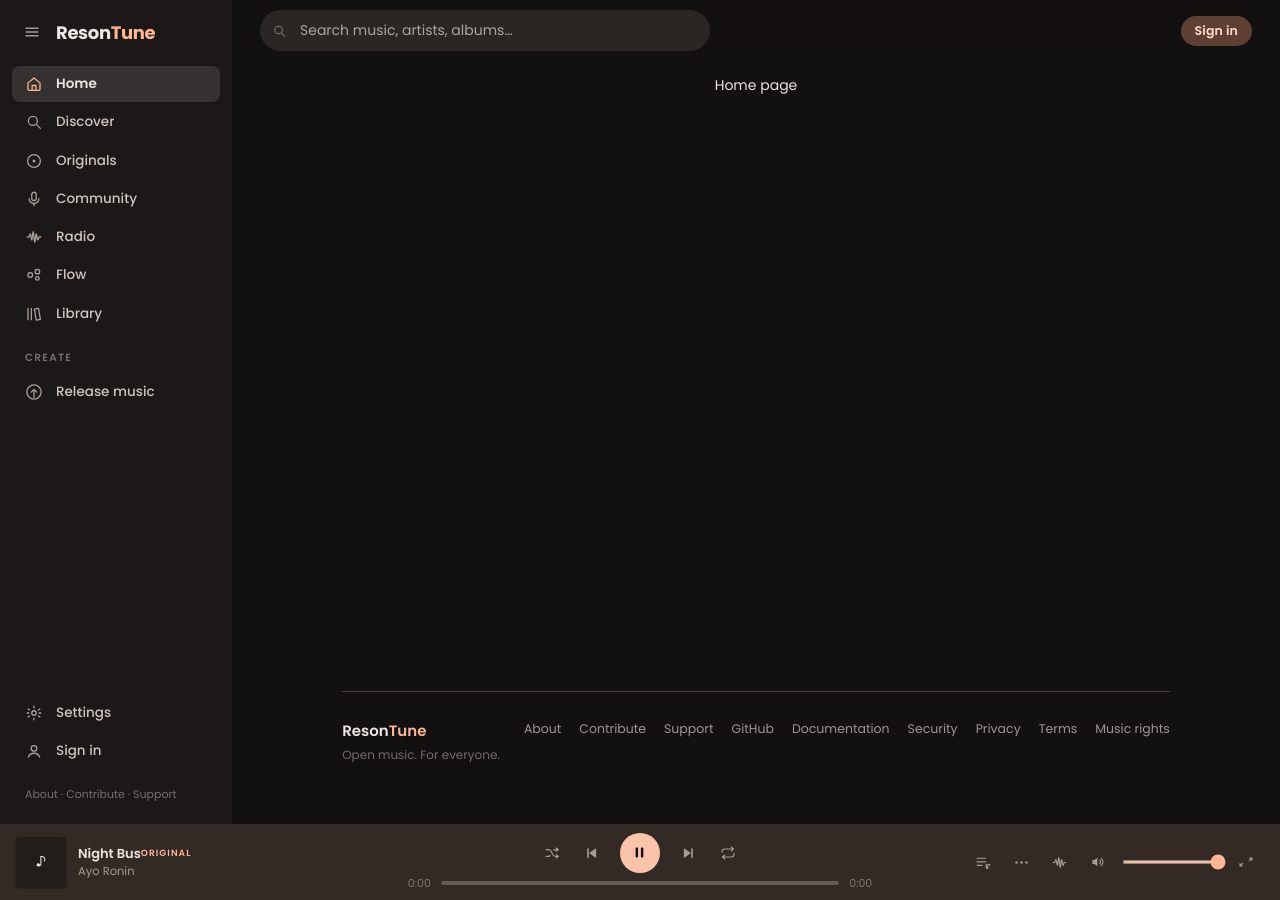
the mobile shell › expands the player without pausing playback
Step 1. Click the button named "Expand player" → click(1246, 862), box [1228,844,1264,880]
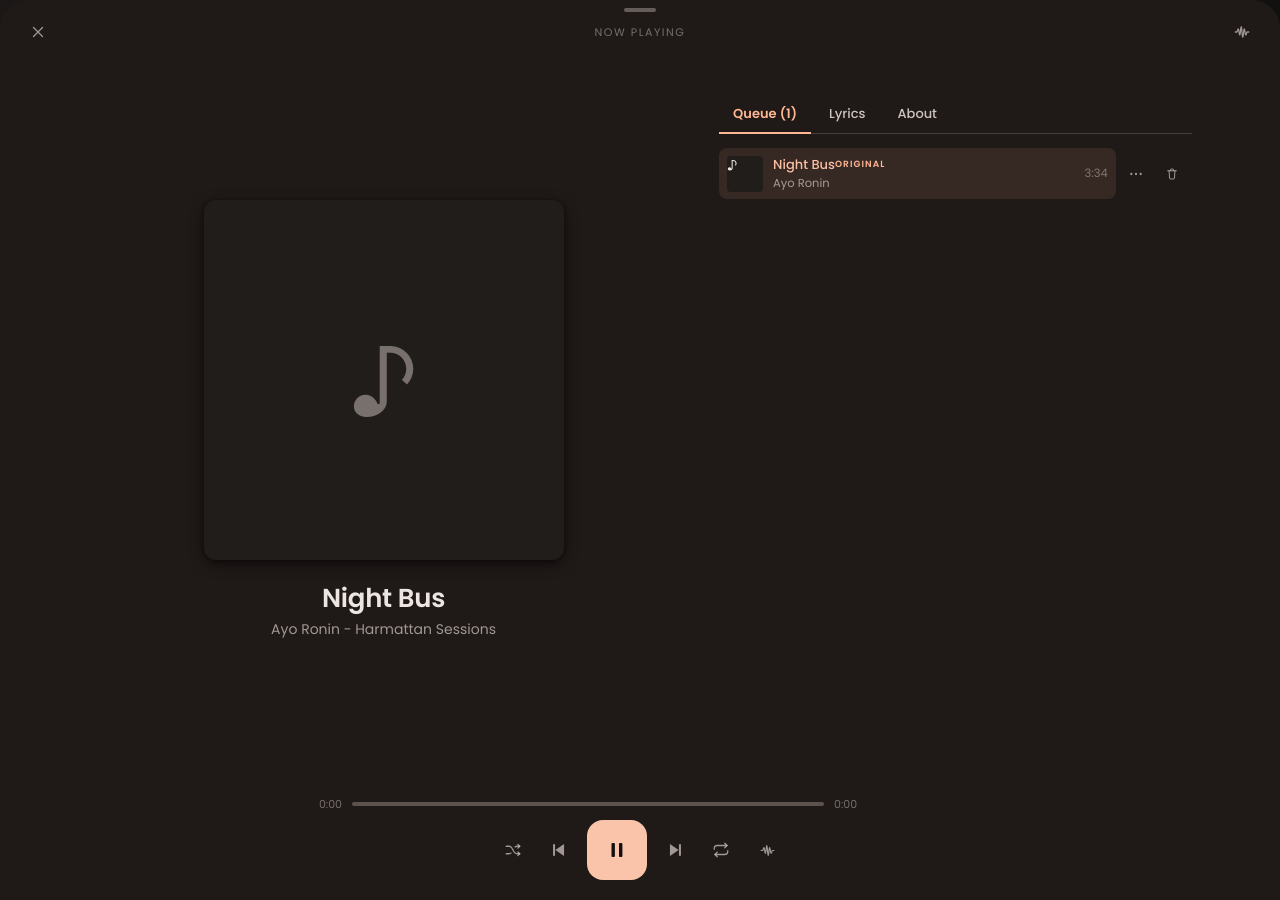
Expected: the element showing "♪ Night Bus ORIGINAL Ayo Ronin 0:00 0:00" is shown, [0,824,1279,899]
Expected: the dialog is shown
